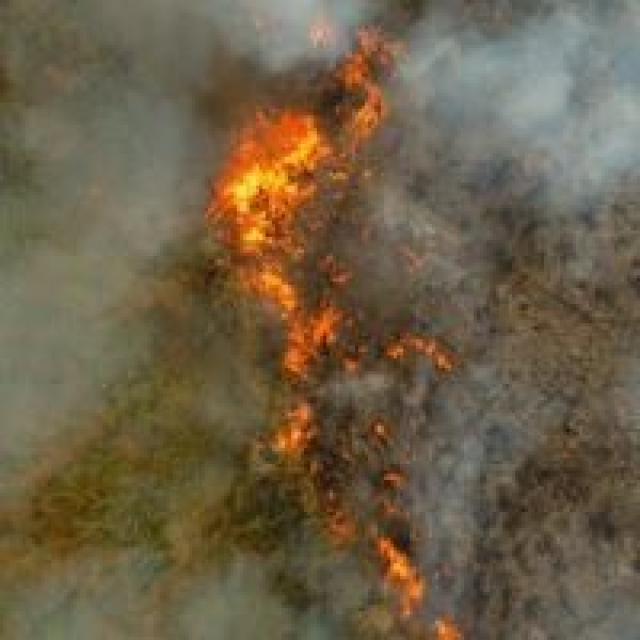Fire: (0, 20, 218, 400), (399, 22, 640, 194), (218, 99, 318, 294), (334, 36, 402, 153), (256, 300, 346, 388), (252, 399, 323, 484), (378, 532, 432, 610), (373, 332, 469, 358)
